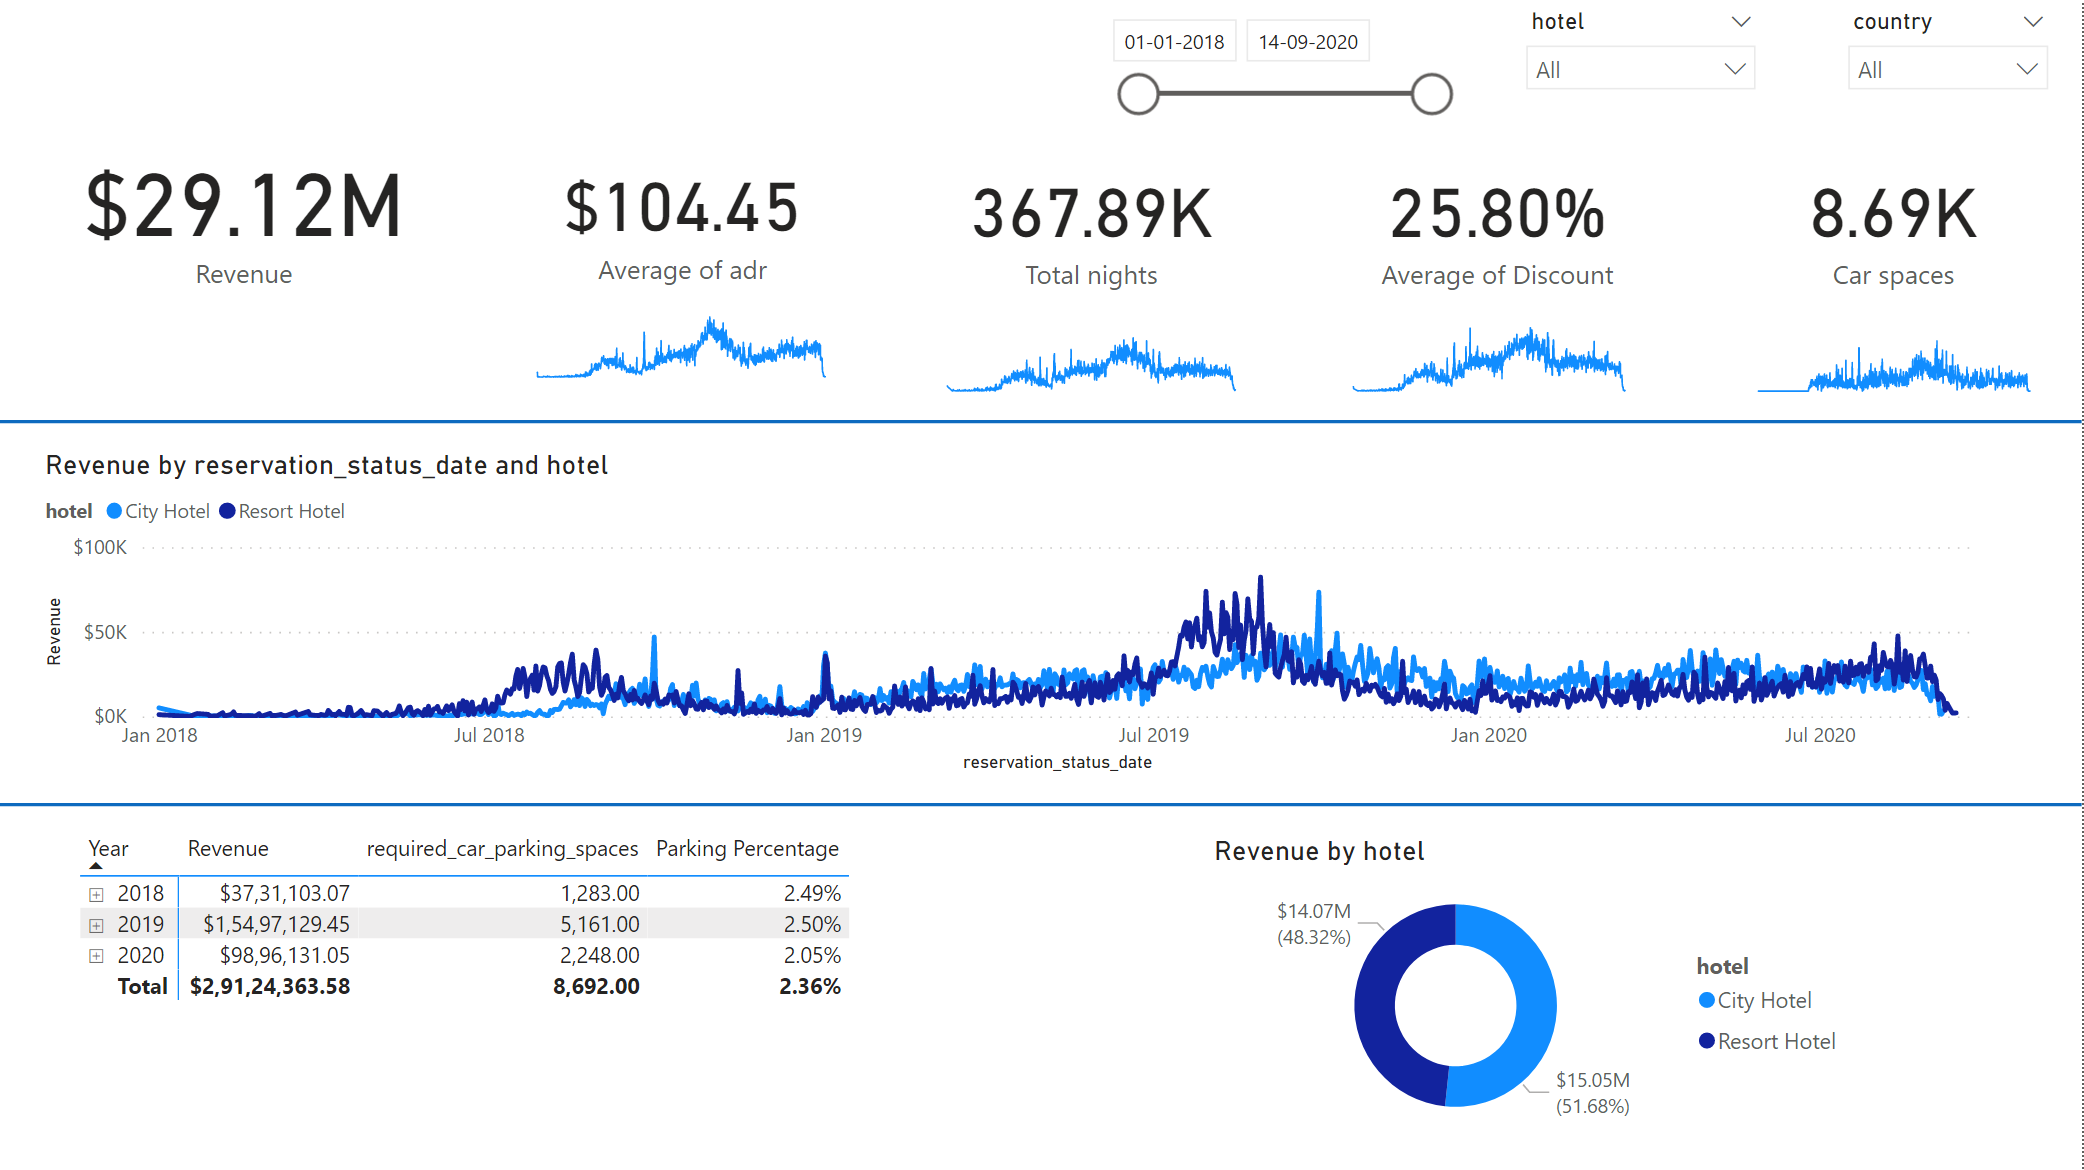

The page's visual inventory and layout, read from the dashboard file:
{"tool":"powerbi","page":{"name":"Page 1","canvas":[1280,720],"ordinal":0},"visuals":[{"type":"shape","box":[0,119.3,1280.1,280.4],"z":0},{"type":"shape","box":[0,354.8,1280.1,280.4],"z":1000},{"type":"card","fields":{"Values":["Sum(Query1.Revenue)"]},"box":[10.5,43,279.1,172.8],"z":2000},{"type":"card","fields":{"Values":["Avg(Query1.adr)"]},"box":[289.6,81.8,260.1,102.7],"z":3000},{"type":"card","fields":{"Values":["Query1.Total nights"]},"box":[549.7,89.2,243.5,95.3],"z":4000},{"type":"card","fields":{"Values":["Avg(Query1.Discount)"]},"box":[793.2,89.2,255.2,95.3],"z":5000},{"type":"lineChart","fields":{"Y":["Sum(Query1.Revenue)"],"Category":["Query1.reservation_status_date"],"Series":["Query1.hotel"]},"box":[22.7,275.5,1207,204.1],"z":6000},{"type":"slicer","fields":{"Values":["Query1.country"]},"box":[1126.4,0,142.6,65.2],"z":7000},{"type":"slicer","fields":{"Values":["Query1.hotel"]},"box":[928.4,0,161.1,65.2],"z":8000},{"type":"lineChart","fields":{"Category":["Query1.reservation_status_date"],"Y":["Sum(Query1.adr)"]},"box":[315.4,175.8,207.2,62.1],"z":9000},{"type":"lineChart","fields":{"Category":["Query1.reservation_status_date"],"Y":["Query1.Total nights"]},"box":[567.5,184.5,207.2,62.1],"z":10000},{"type":"lineChart","fields":{"Y":["Sum(Query1.Discount)"],"Category":["Query1.reservation_status_date"]},"box":[817.1,184.5,196.8,62.1],"z":11000},{"type":"card","fields":{"Values":["Sum(Query1.required_car_parking_spaces)"]},"box":[1048.3,89.2,231.8,95.3],"z":12000},{"type":"lineChart","fields":{"Category":["Query1.reservation_status_date"],"Y":["Sum(Query1.required_car_parking_spaces)"]},"box":[1066.2,184.5,196.8,62.1],"z":13000},{"type":"donutChart","fields":{"Y":["Sum(Query1.Revenue)"],"Category":["Query1.hotel"]},"box":[741.5,512.8,401.5,191.8],"z":14000},{"type":"pivotTable","fields":{"Rows":["Query1.reservation_status_date.Variation.Date Hierarchy.Year","Query1.hotel"],"Values":["Sum(Query1.Revenue)","Sum(Query1.required_car_parking_spaces)","Query1.Parking Percentage"]},"box":[44.3,506,582.3,169.7],"z":15000},{"type":"slicer","fields":{"Values":["Query1.reservation_status_date"]},"box":[671.4,1.8,230,79.9],"z":16000}]}

Visuals, with their boxes in screenshot pixels (x1, y1, x2, y2), scaled from the page's 1280x720 canvas onto the 2084x1170 screenshot:
shape: box(0, 194, 2083, 650)
shape: box(0, 577, 2083, 1032)
card - Sum(Query1.Revenue): box(17, 70, 472, 351)
card - Avg(Query1.adr): box(472, 133, 895, 300)
card - Query1.Total nights: box(895, 145, 1291, 300)
card - Avg(Query1.Discount): box(1291, 145, 1707, 300)
lineChart - Sum(Query1.Revenue) x Query1.reservation_status_date: box(37, 448, 2002, 779)
slicer - Query1.country: box(1834, 0, 2066, 106)
slicer - Query1.hotel: box(1512, 0, 1774, 106)
lineChart - Query1.reservation_status_date x Sum(Query1.adr): box(514, 286, 851, 387)
lineChart - Query1.reservation_status_date x Query1.Total nights: box(924, 300, 1261, 401)
lineChart - Sum(Query1.Discount) x Query1.reservation_status_date: box(1330, 300, 1651, 401)
card - Sum(Query1.required_car_parking_spaces): box(1707, 145, 2083, 300)
lineChart - Query1.reservation_status_date x Sum(Query1.required_car_parking_spaces): box(1736, 300, 2056, 401)
donutChart - Sum(Query1.Revenue) x Query1.hotel: box(1207, 833, 1861, 1145)
pivotTable - Query1.reservation_status_date.Variation.Date Hierarchy.Year x Query1.hotel: box(72, 822, 1020, 1098)
slicer - Query1.reservation_status_date: box(1093, 3, 1468, 133)
